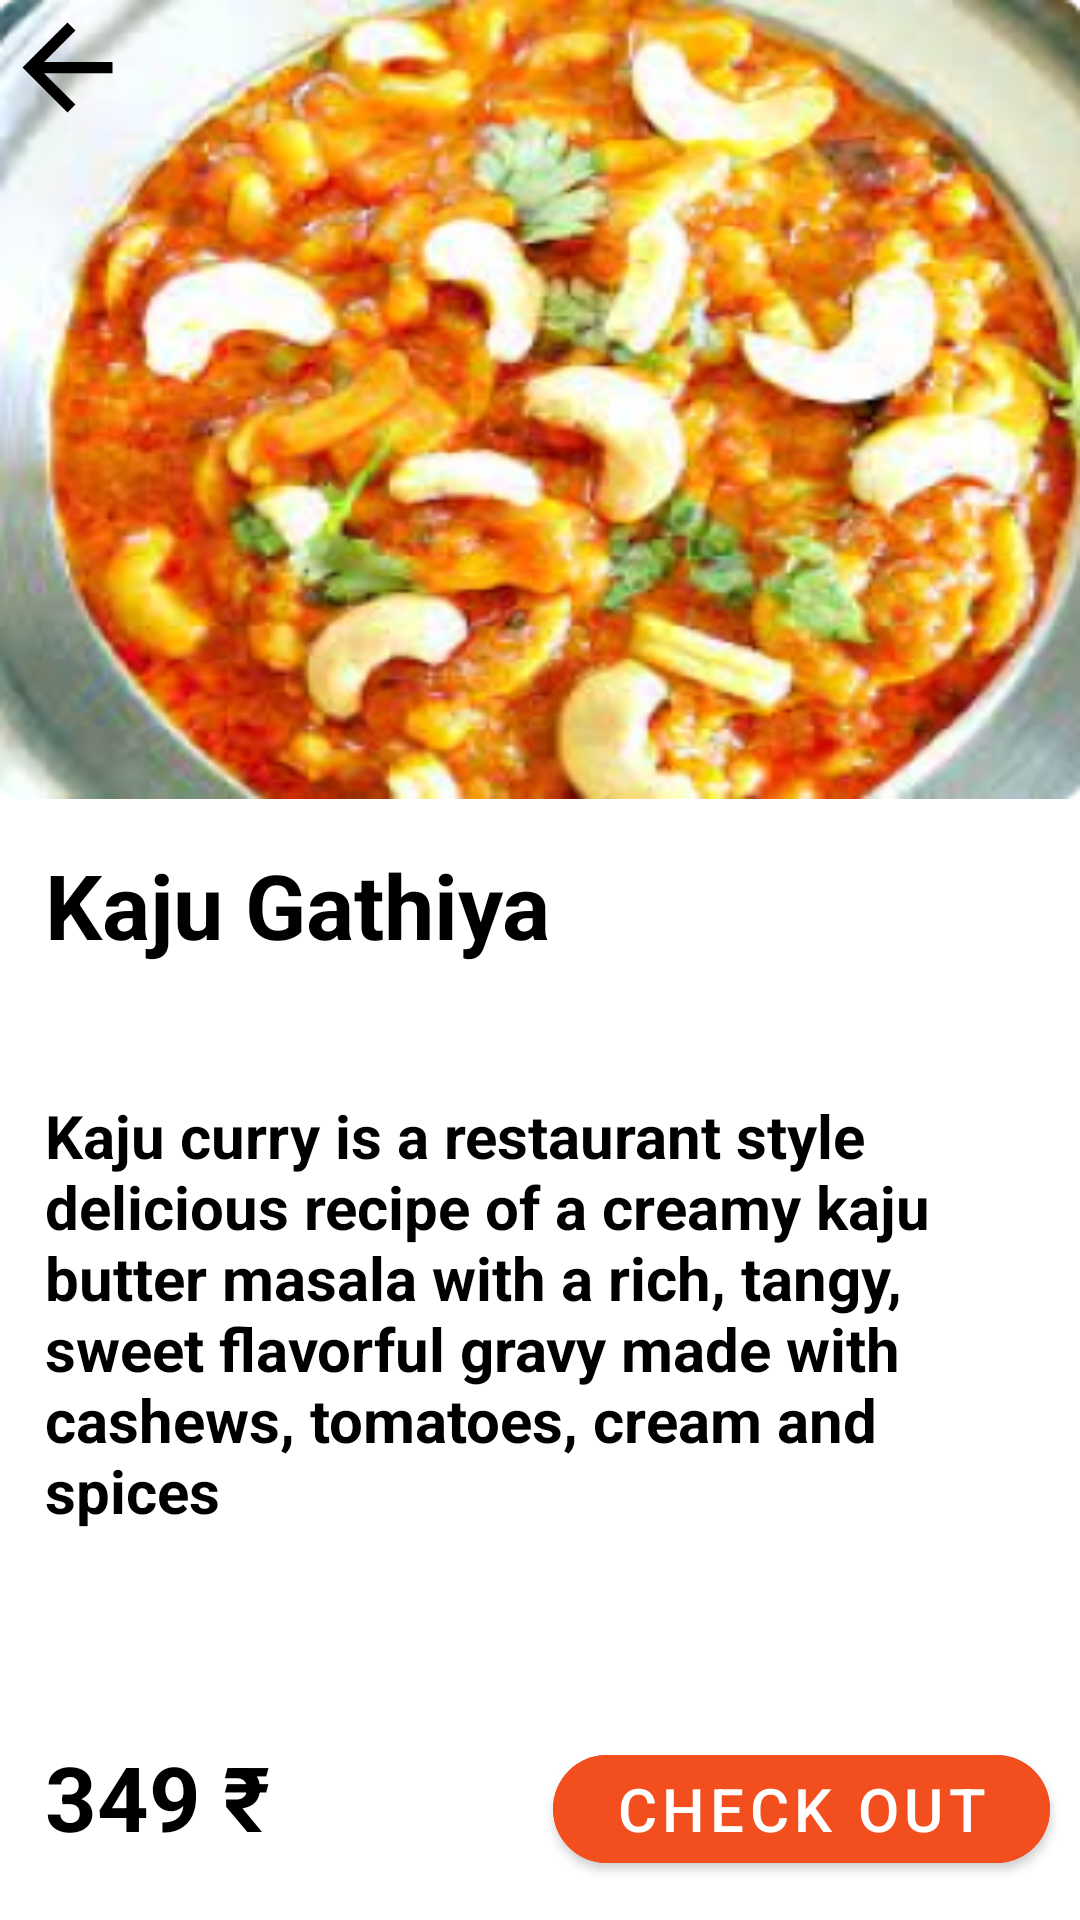

Screen size 1080px x 1920px. Icon name, then its box in pixels as (x1, y1, x2, y2):
back: (0, 0, 135, 135)
